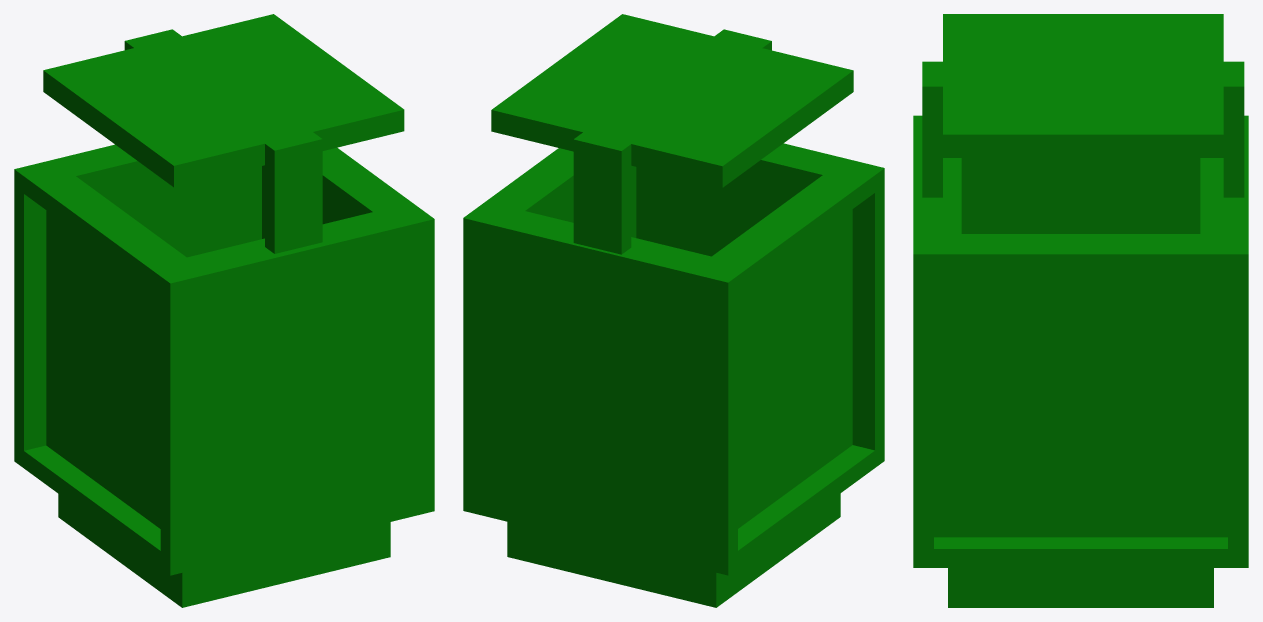
File: rubbish bin.fbx
The picture shows the model from 3 angles, left to right: view 1: azimuth 30°, elevation 25°; view 2: azimuth 150°, elevation 25°; view 3: azimuth 270°, elevation 25°; orthographic projection. The views are drawn at different scales.
Visible parts, largest first — view 1: pCube1, pCube2; view 2: pCube1, pCube2; view 3: pCube1, pCube2.
Boxes of the visible parts, bbox=[...] form: pCube1: bbox=[14, 144, 434, 607]; pCube2: bbox=[43, 14, 404, 253]; pCube1: bbox=[463, 143, 884, 607]; pCube2: bbox=[491, 14, 853, 254]; pCube1: bbox=[913, 115, 1248, 607]; pCube2: bbox=[922, 14, 1244, 197].
Size of the model in its own units: 4.73 by 7.64 by 4.85.
